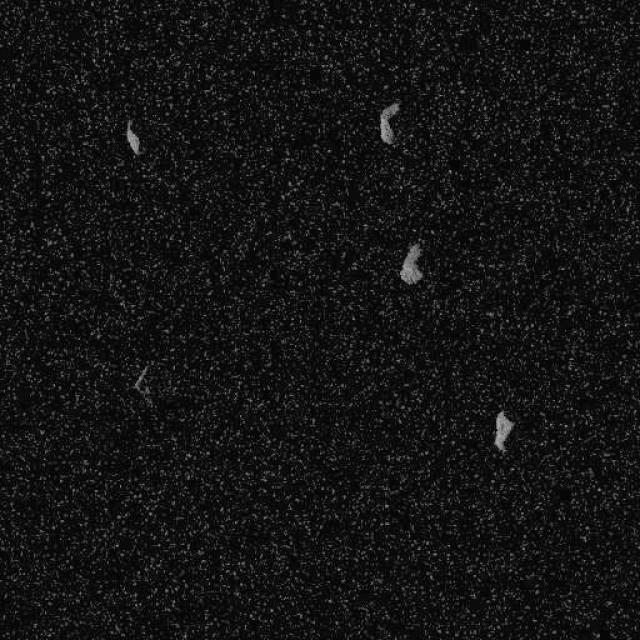D2: (398, 241, 423, 285), (378, 101, 400, 145), (492, 410, 514, 452), (132, 362, 152, 397), (124, 119, 141, 155)
